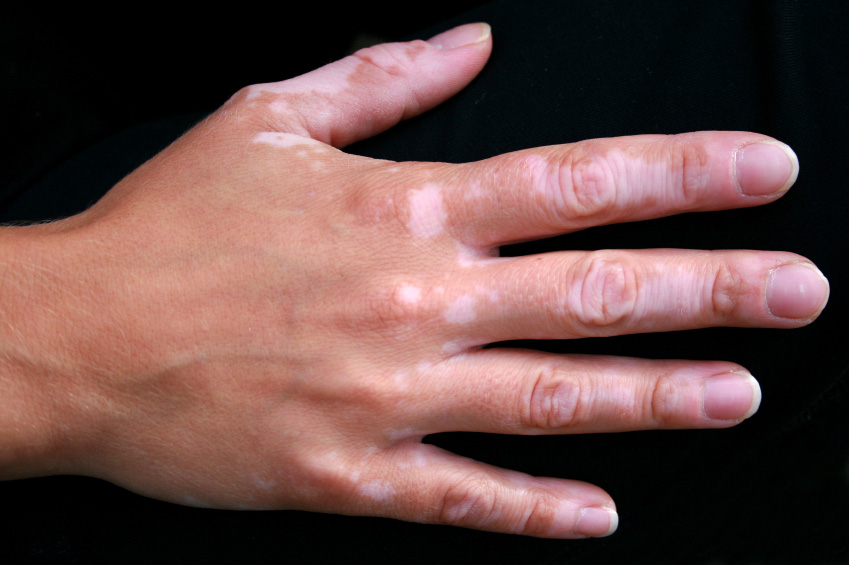vitiligo: (264, 84, 689, 499)
